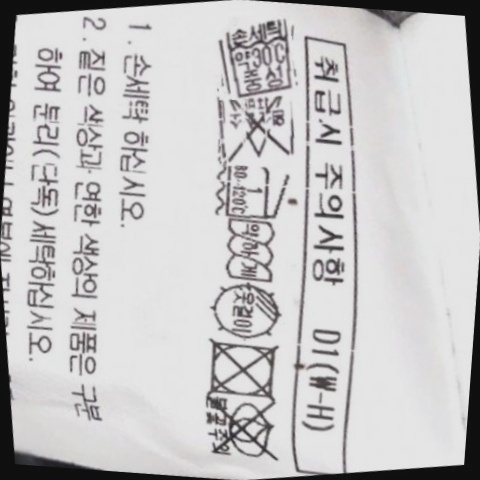DN_tumble_dry: (192, 327, 290, 409)
hand_wash: (212, 15, 305, 102)
iron_low: (213, 155, 293, 228)
line_dry_in_shade: (201, 274, 292, 347)
wring: (215, 213, 284, 290)
